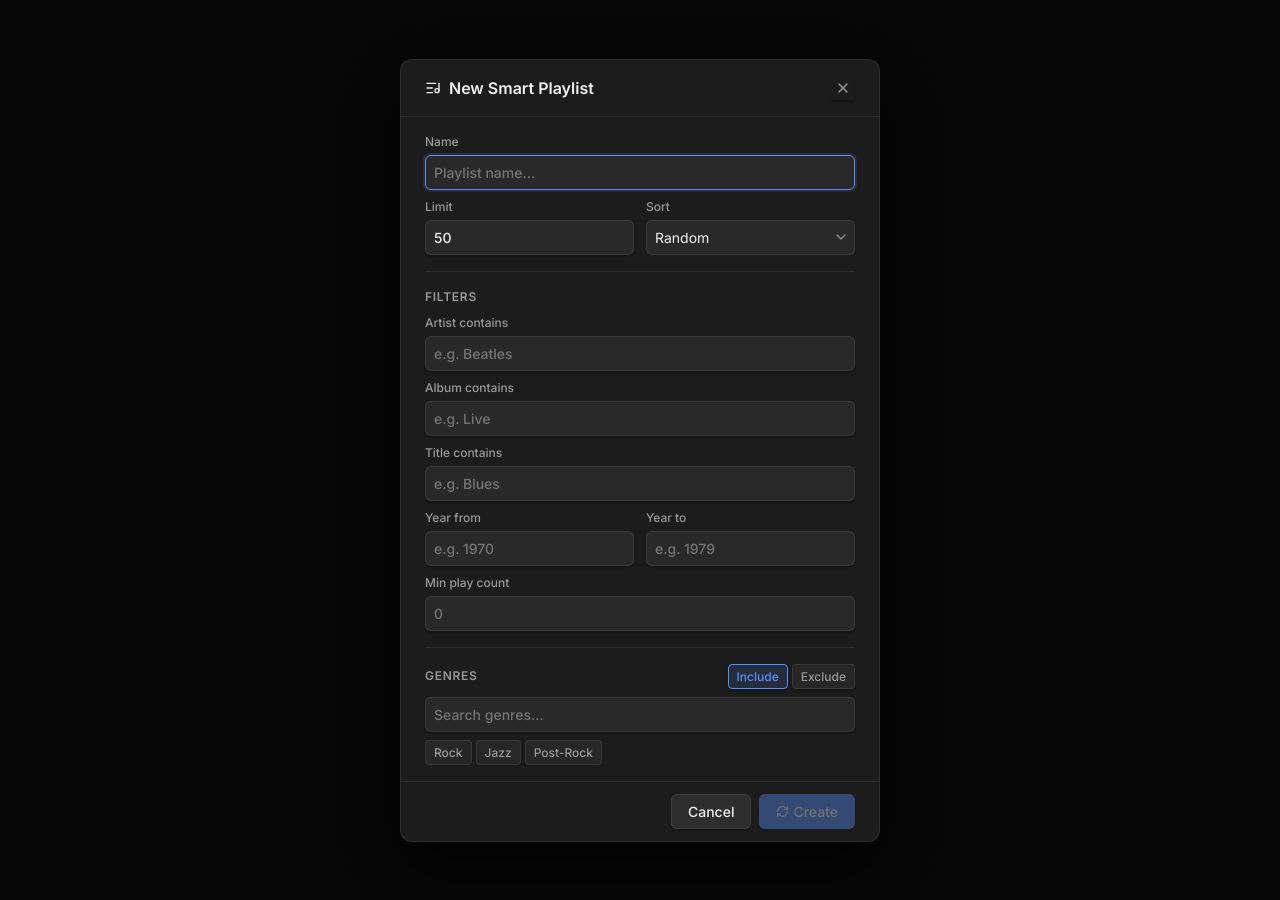
Test: SmartPlaylistModal genre selection › shows the empty message when the search matches nothing, keeping the chips visible
Click the button "Jazz". click: (498, 752)
box: top-left (476, 740), bottom-right (521, 764)
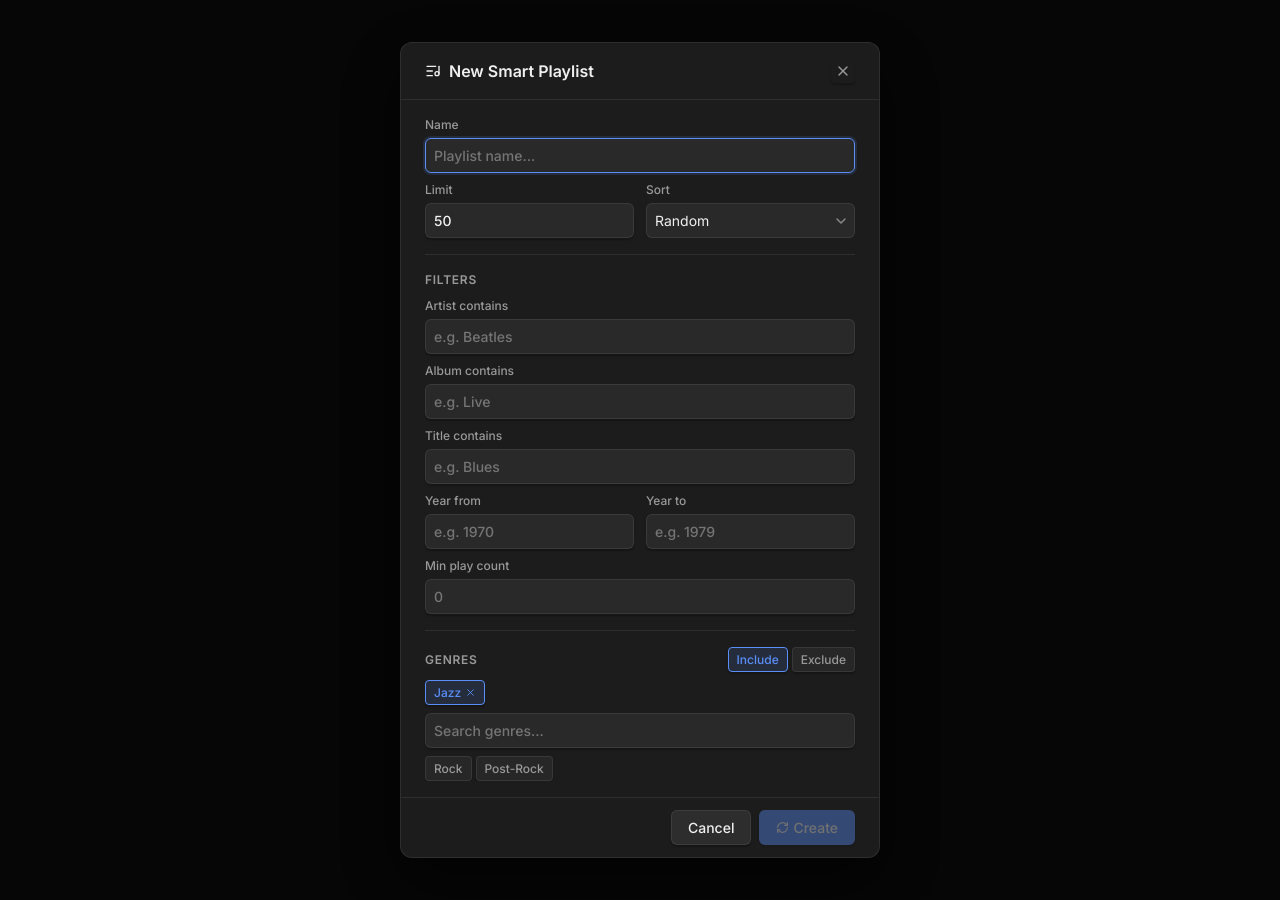
Type "zzzz" into the field with class "spm-genre-search". click: (640, 730)
box: top-left (425, 713), bottom-right (855, 748)
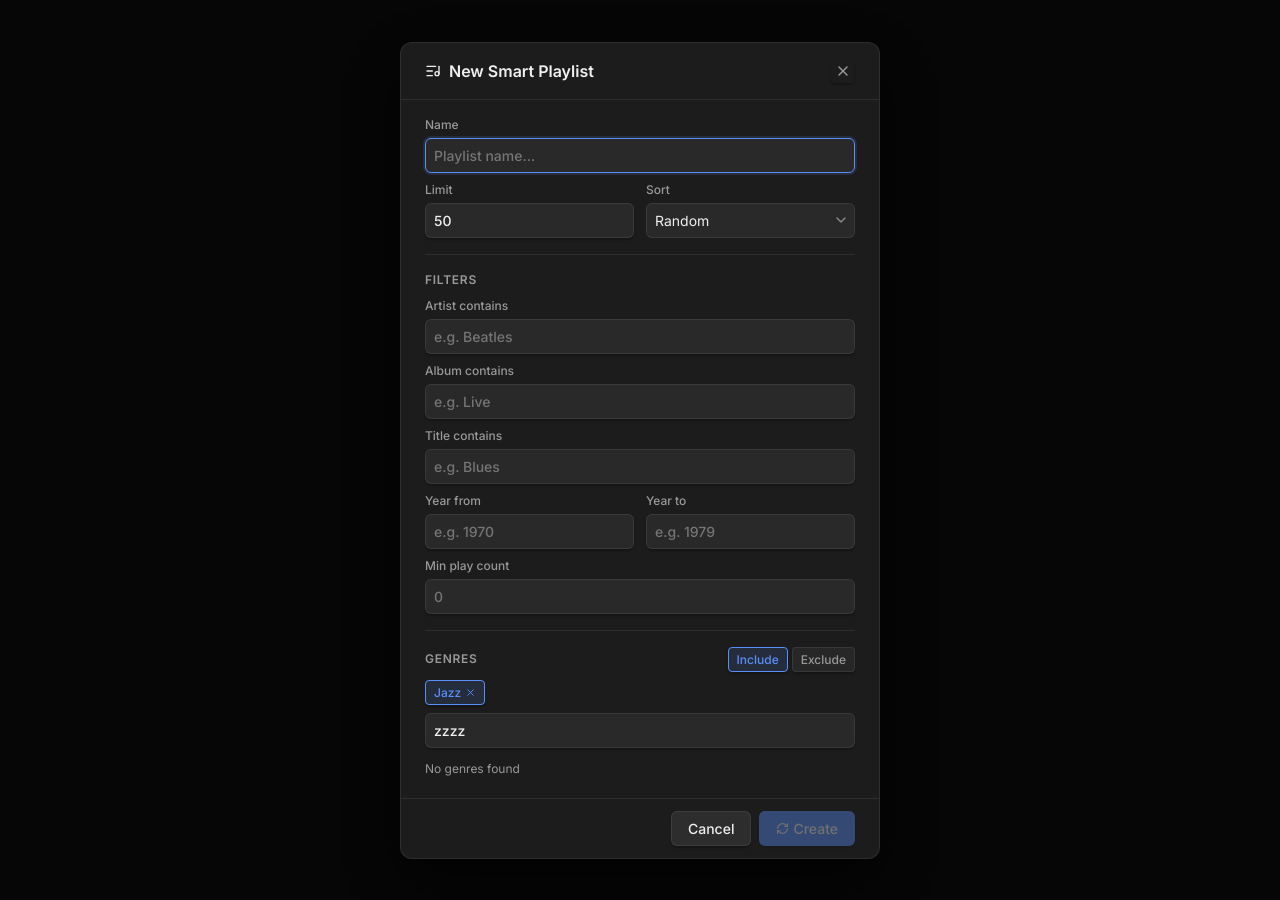
Expected: the text "No genres found" is shown, top-left (425, 760), bottom-right (520, 776)
